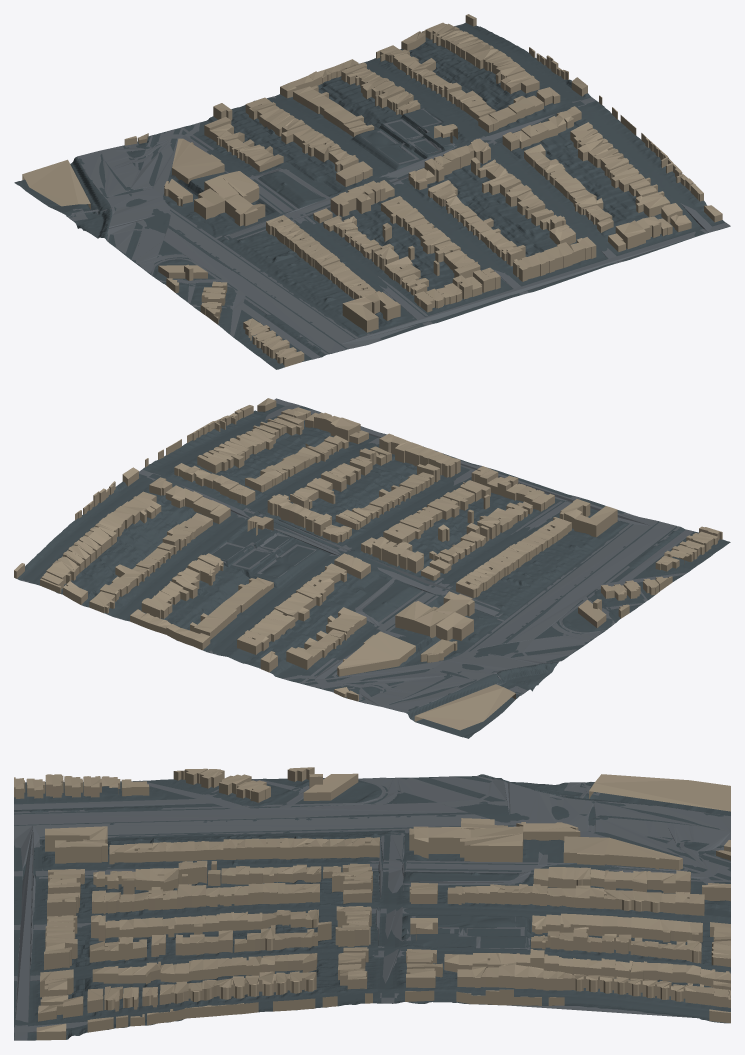
The model's file is epsg26910-1423-10871.lod0.glb.
3 renders of one model, top to bottom at view 1: azimuth 30°, elevation 25°; view 2: azimuth 150°, elevation 25°; view 3: azimuth 270°, elevation 25°, orthographic. The views are drawn at different scales.
Visible parts, largest first — view 1: epsg26910-1423-10871-lod0; view 2: epsg26910-1423-10871-lod0; view 3: epsg26910-1423-10871-lod0.
Part boxes in pixels (x1,y1,x2,y2): epsg26910-1423-10871-lod0: (14, 14, 730, 369); epsg26910-1423-10871-lod0: (14, 398, 730, 738); epsg26910-1423-10871-lod0: (14, 767, 730, 1040).
Bounding box in the file's own units: 384 × 60.39 × 384.
